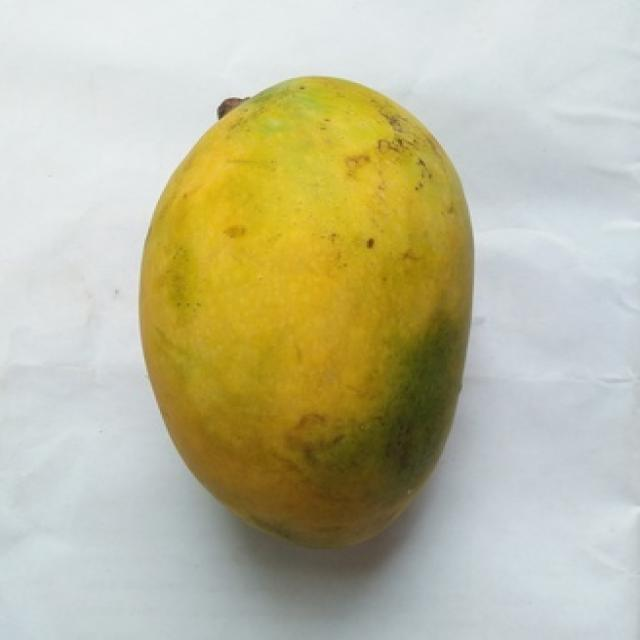Mango: (139, 77, 472, 544)
